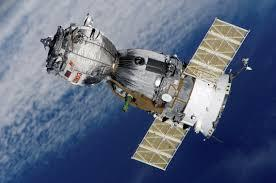antenna: (82, 12, 95, 28)
body: (42, 17, 234, 138)
solar: (181, 15, 252, 87), (129, 114, 193, 173)
thruster: (39, 35, 54, 51)
